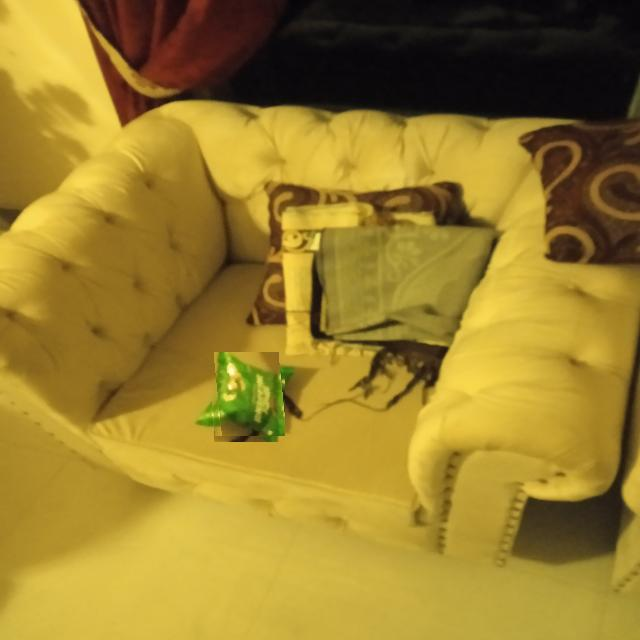Plastic: (207, 358, 285, 436)
